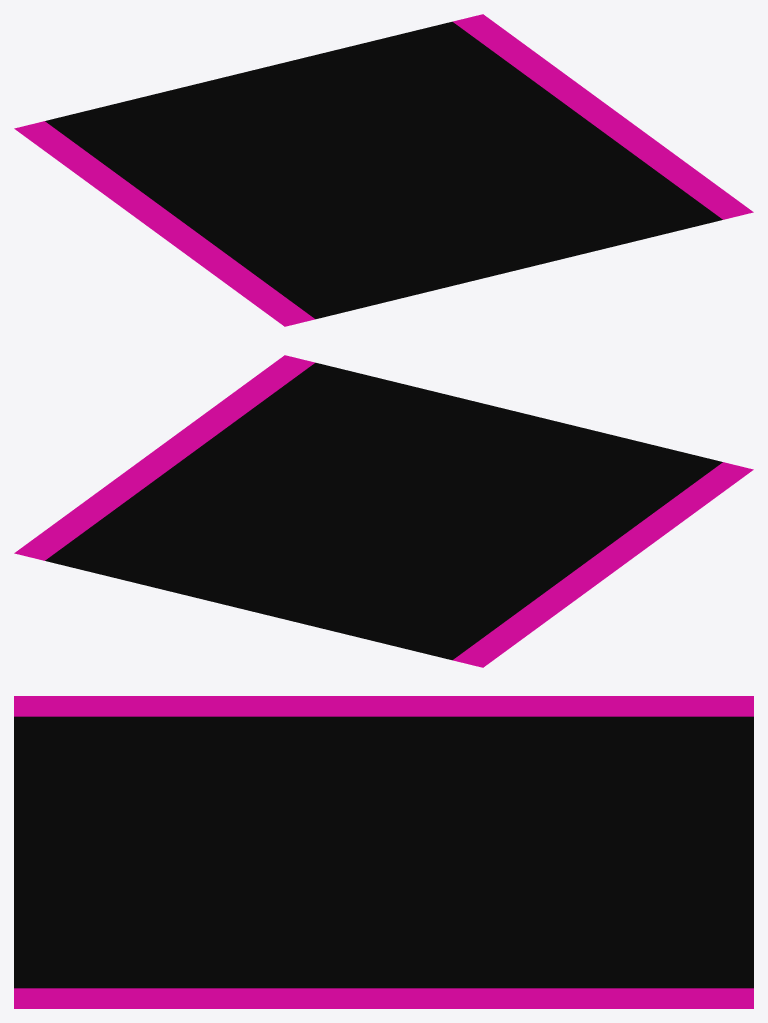
Rendered from Road.fbx.
3 views of the same model, one above another, from view 1: azimuth 30°, elevation 25°; view 2: azimuth 150°, elevation 25°; view 3: azimuth 270°, elevation 25° (orthographic). The views are drawn at different scales.
Visible parts, largest first — view 1: Plane; view 2: Plane; view 3: Plane.
Boxes of the visible parts, bbox=[...] form: Plane: bbox=[14, 14, 753, 326]; Plane: bbox=[14, 355, 753, 667]; Plane: bbox=[14, 696, 753, 1008].
Bounding box in the file's own units: 200 × 5.01e-05 × 200.
